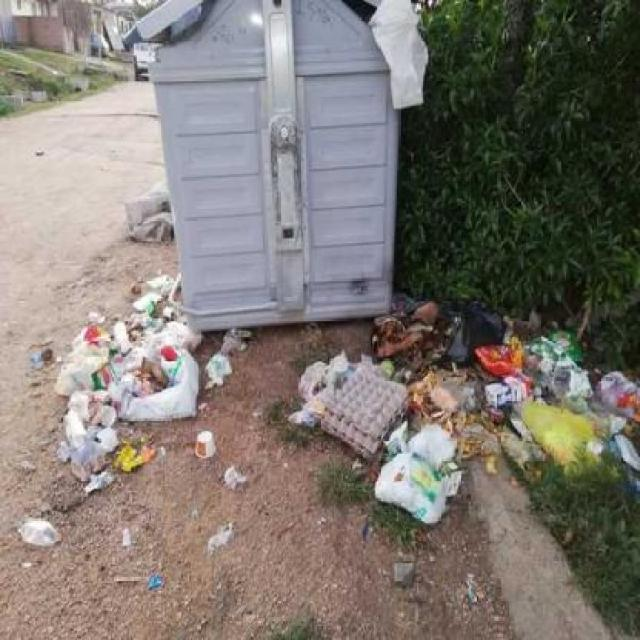garbage: (292, 285, 640, 525), (3, 303, 218, 486), (17, 503, 322, 620), (354, 0, 468, 124), (106, 176, 174, 337), (462, 560, 484, 618)
